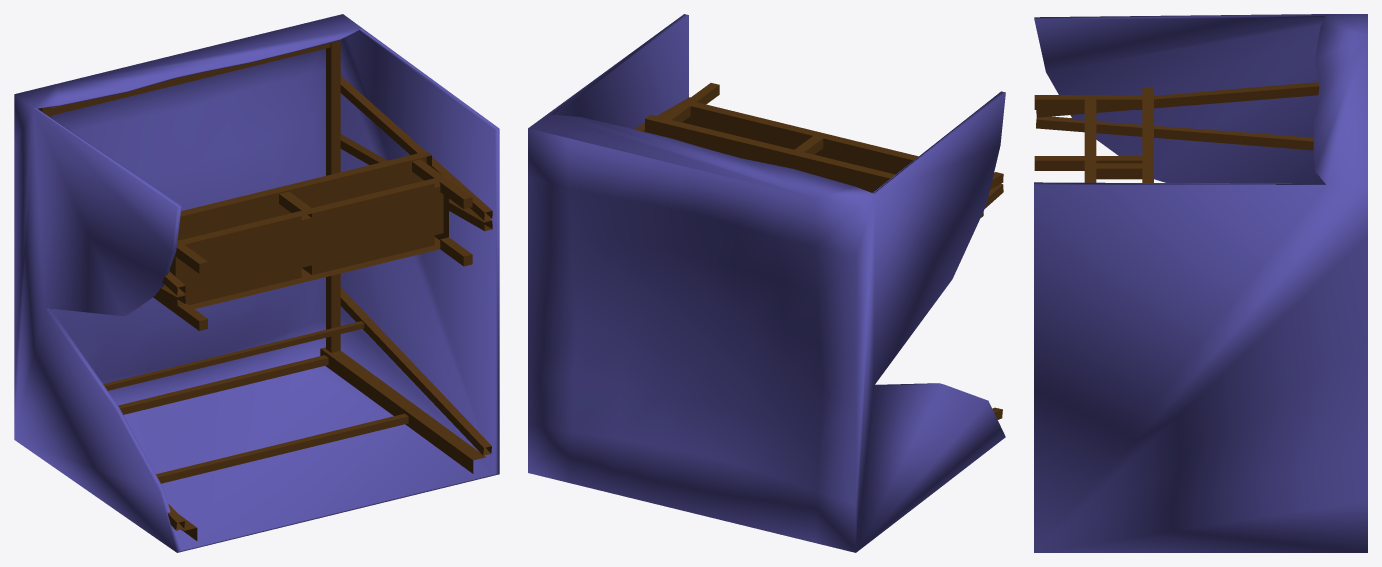
The model's file is Market_Stall_4.fbx.
3 renders of one model, left to right at view 1: azimuth 30°, elevation 25°; view 2: azimuth 150°, elevation 25°; view 3: azimuth 270°, elevation 25°, orthographic. The views are drawn at different scales.
Parts seen in each view (by area): view 1: Plane.004; view 2: Plane.004; view 3: Plane.004.
Part boxes in pixels (<box>): Plane.004: <box>14,14,499,552</box>; Plane.004: <box>528,14,1005,552</box>; Plane.004: <box>1034,14,1367,552</box>.
Bounding box in the file's own units: 796 × 800 × 657.
